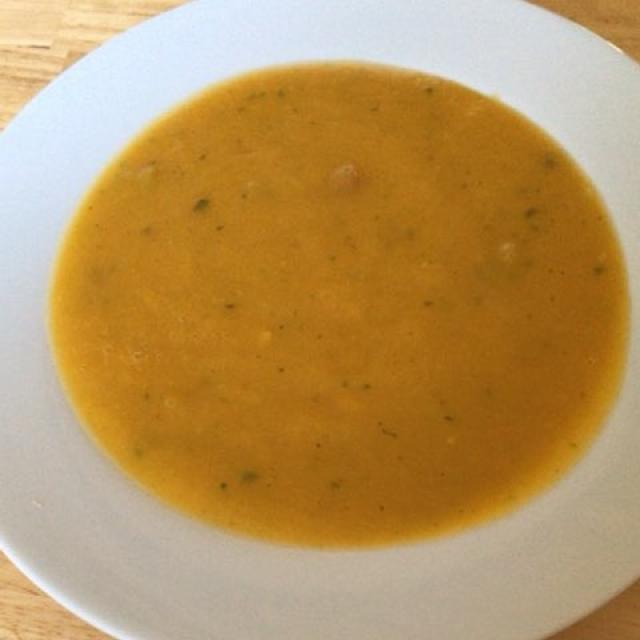soup-pumpkin: (57, 69, 617, 545)
